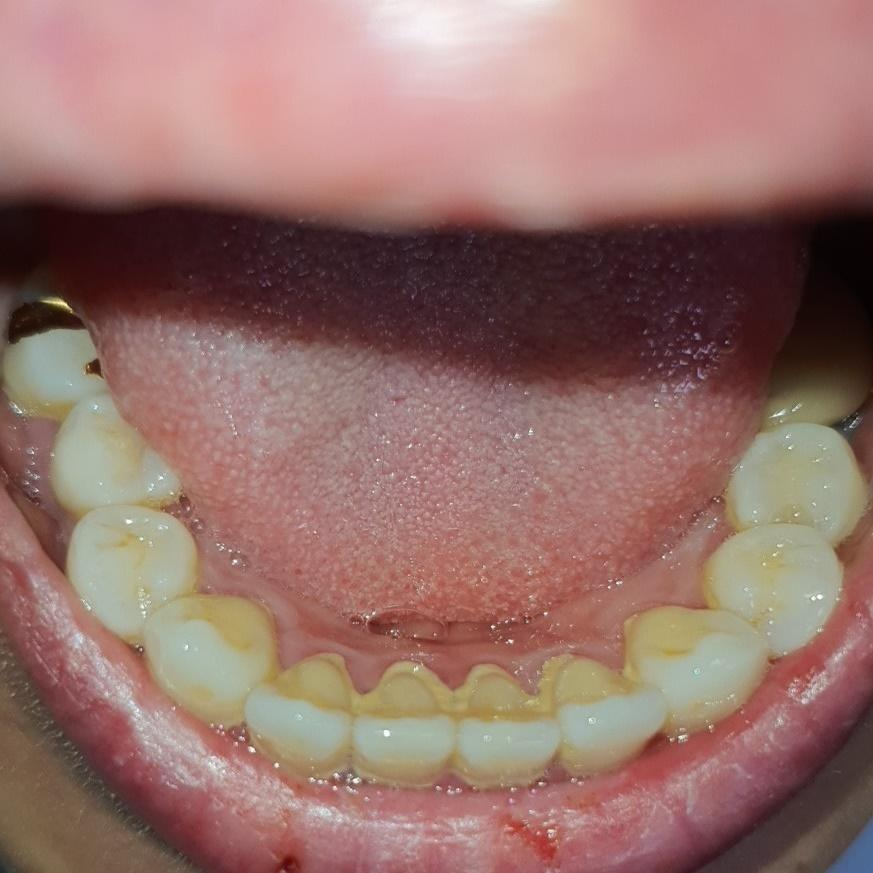Healthy: (452, 656, 669, 783), (263, 649, 456, 774)
